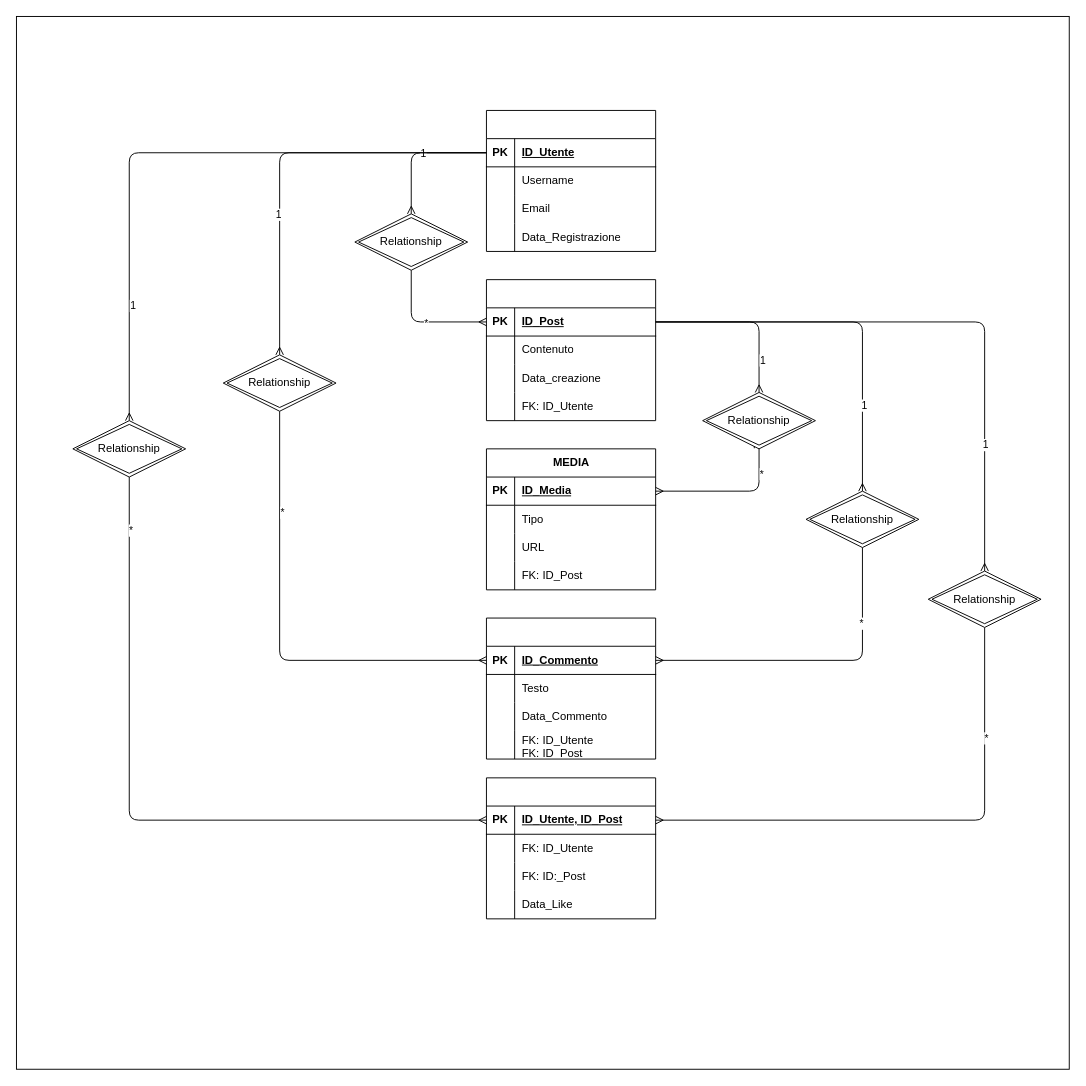
Image size: 1086x1086. Some labels were removed from this diagram. The box of each missing label's shape, as (x1, y1, x2, y2) in pixels:
COMMENTI: (486, 617, 656, 759)
LIKES: (486, 777, 656, 919)
POSTS: (486, 279, 656, 421)
UTENTI: (486, 110, 656, 251)
